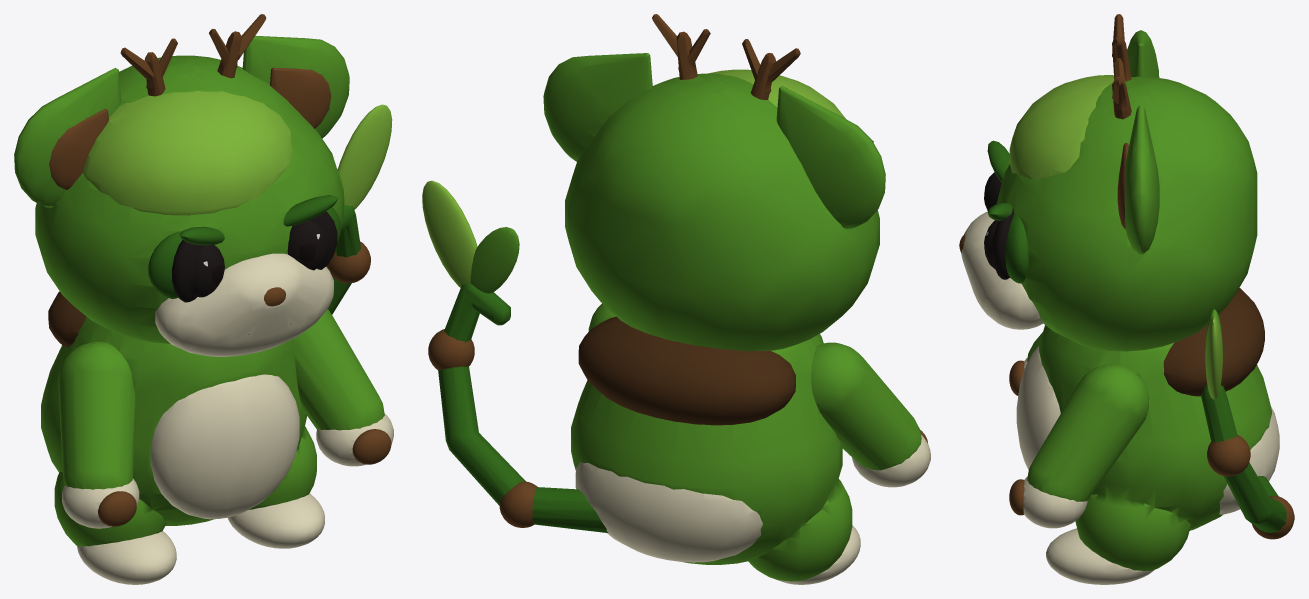
File: bramblecub.glb
The picture shows the model from 3 angles, left to right: view 1: azimuth 30°, elevation 25°; view 2: azimuth 150°, elevation 25°; view 3: azimuth 270°, elevation 25°; orthographic projection. The views are drawn at different scales.
Parts seen in each view (by area): view 1: creature; view 2: creature; view 3: creature.
Part boxes in pixels (x1,y1,x2,y2): creature: (14,14,393,584); creature: (422,14,930,584); creature: (959,14,1294,584).
Size of the model in its own units: 0.8367 by 1 by 0.6112.
